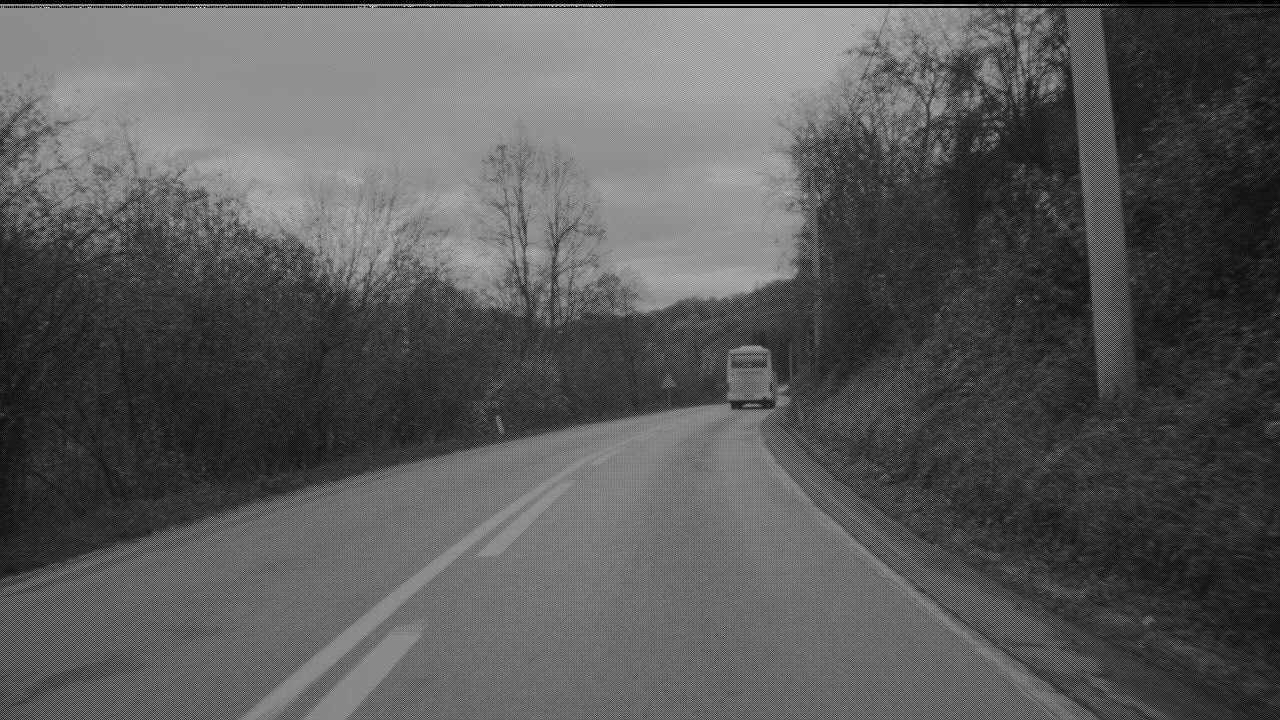pole: (142, 1, 215, 405)
